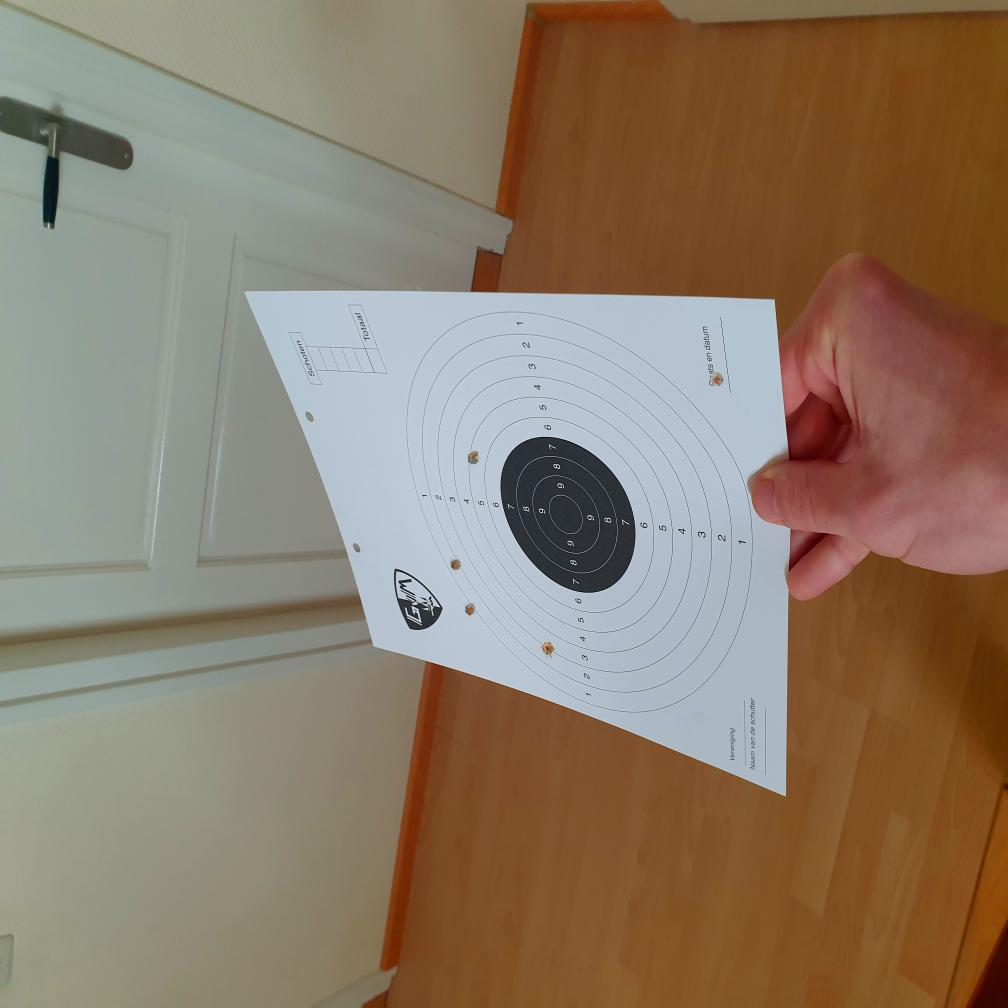0: (710, 372, 724, 386)
1: (464, 602, 475, 615)
2: (449, 554, 463, 574)
3: (541, 641, 554, 656)
5: (468, 450, 480, 464)
Target: (405, 309, 752, 716)
black_contour: (500, 437, 636, 593)
